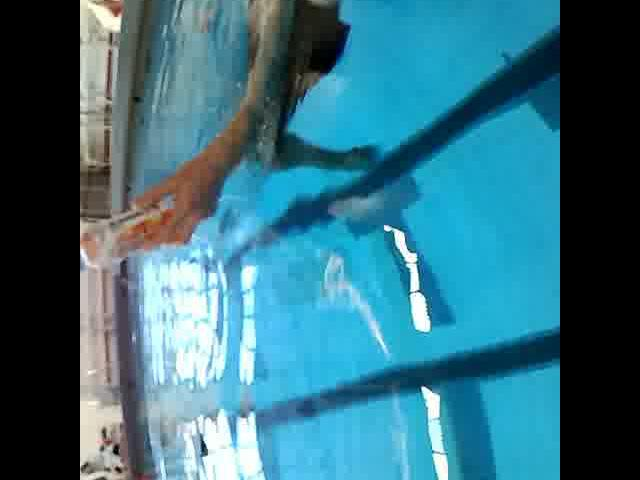Bottle: (80, 197, 174, 277)
